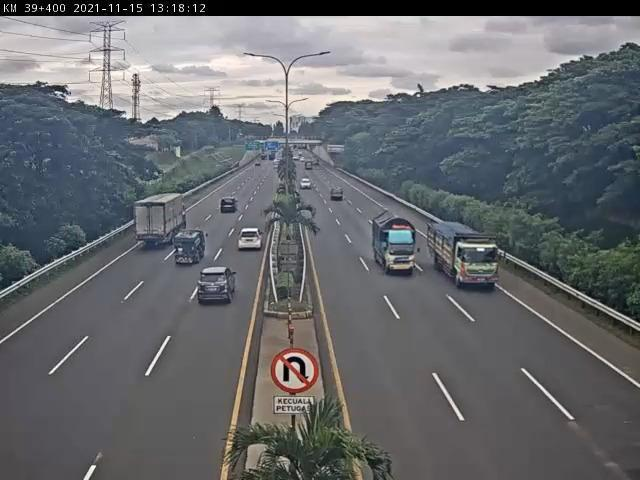car: (196, 270, 240, 305), (237, 230, 262, 253), (219, 198, 240, 216)
truck: (426, 224, 504, 291), (371, 209, 420, 275), (134, 192, 189, 247), (175, 229, 208, 266)
